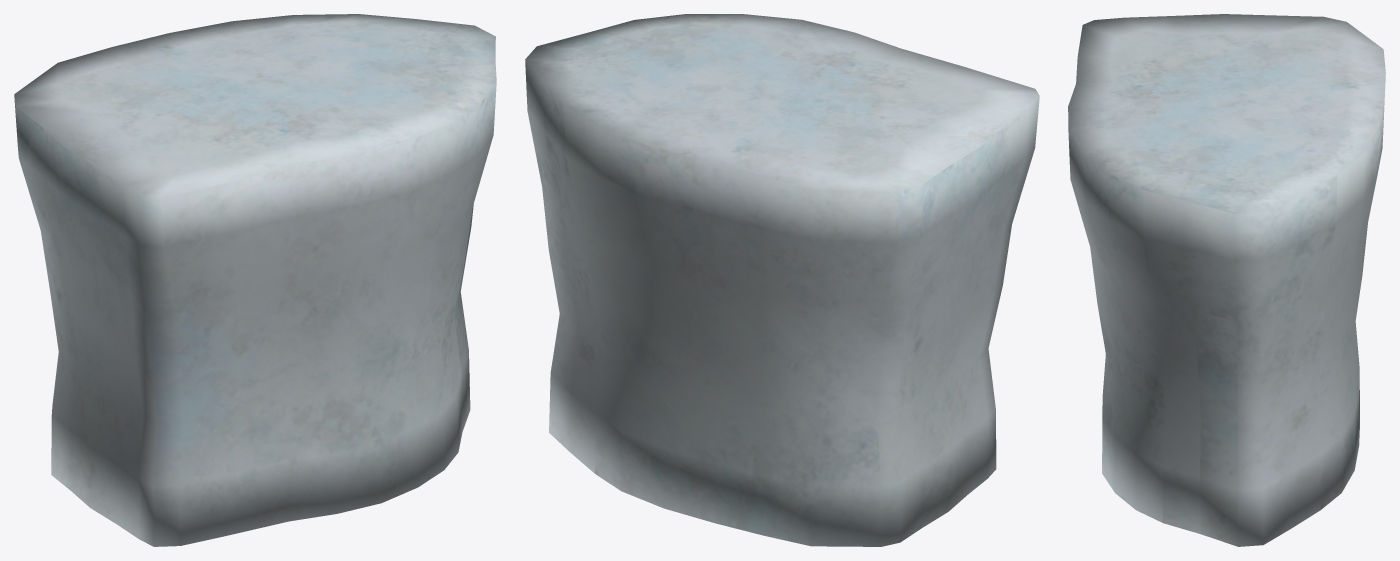
The model's file is P_RockDesert_Shelf08.obj.
3 views of the same model, side by side, from view 1: azimuth 30°, elevation 25°; view 2: azimuth 150°, elevation 25°; view 3: azimuth 270°, elevation 25° (orthographic). The views are drawn at different scales.
Size of the model in its own units: 29.11 by 24.13 by 19.66.
